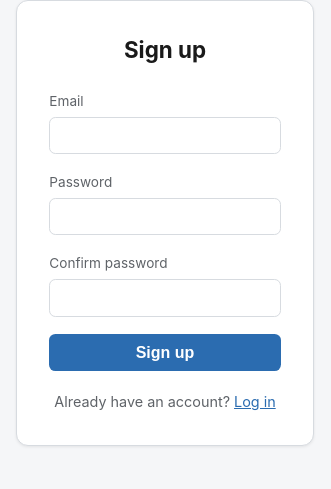
shows the duplicate-email error under the email field
Type "alice@example.com" into the field labelled "Email" at (165, 135), box [49,117,281,154]
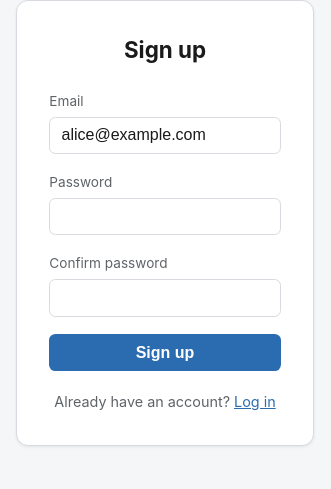
Type "correct horse battery" into the password field labelled "Password" at (165, 217), box [49,198,281,235]
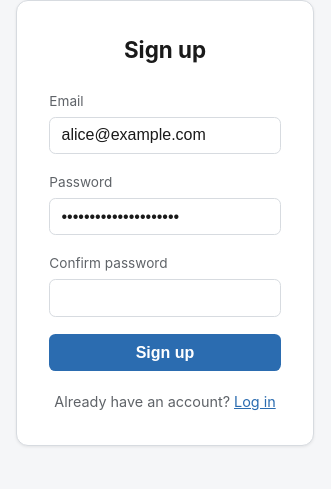
Type "correct horse battery" into the password field labelled "Confirm password" at (165, 298), box [49,279,281,316]
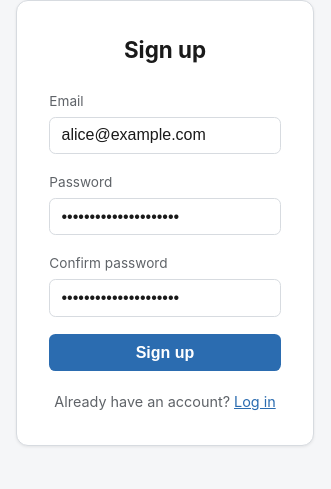
Click the button "Sign up" at (165, 353), box [49,334,281,371]
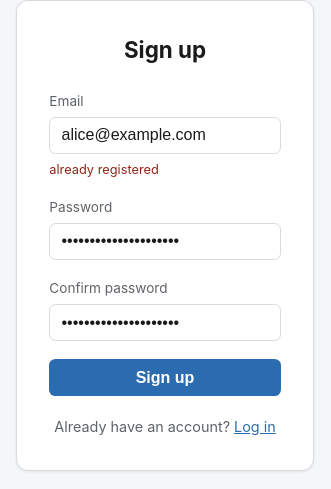
Now the text "already registered" is shown, box [49,162,159,177]
